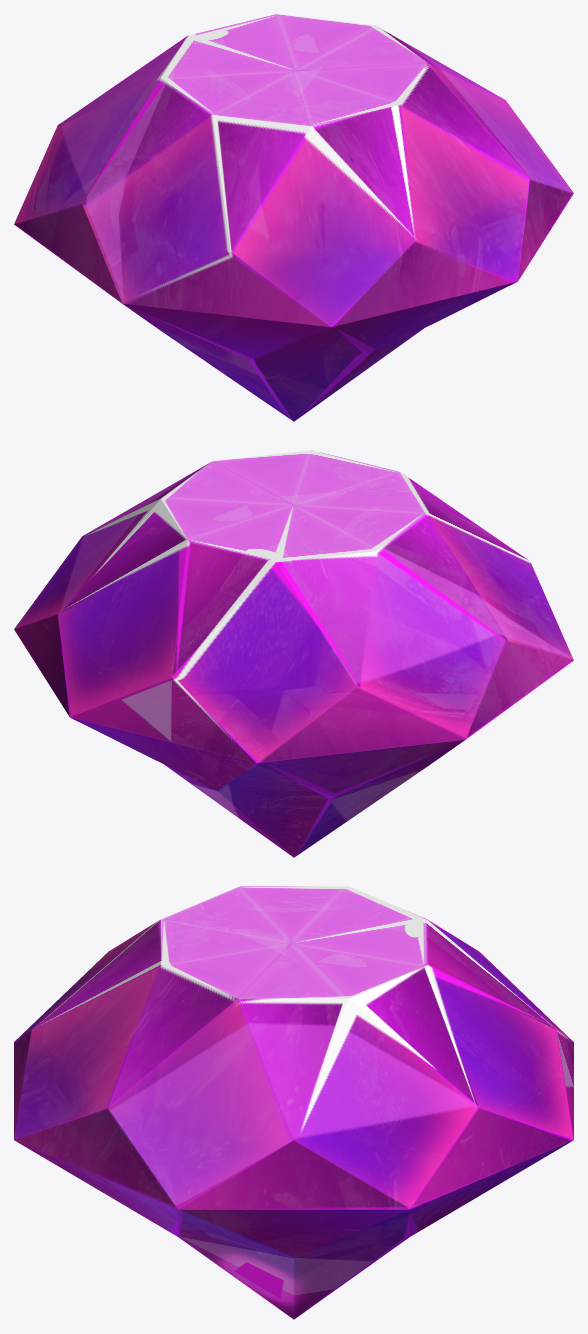
File: gem.fbx
3 renders of one model, top to bottom at view 1: azimuth 30°, elevation 25°; view 2: azimuth 150°, elevation 25°; view 3: azimuth 270°, elevation 25°, orthographic. The views are drawn at different scales.
Visible parts, largest first — view 1: gema; view 2: gema; view 3: gema.
Part boxes in pixels (x1,y1,x2,y2): gema: (14,14,573,421); gema: (14,450,573,857); gema: (14,886,573,1319).
Size of the model in its own units: 307 by 228 by 307.
